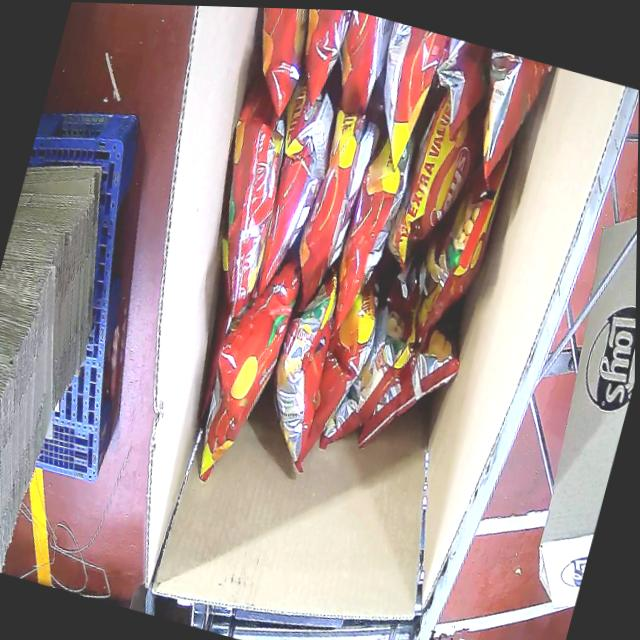MASALA: (128, 4, 555, 548)
